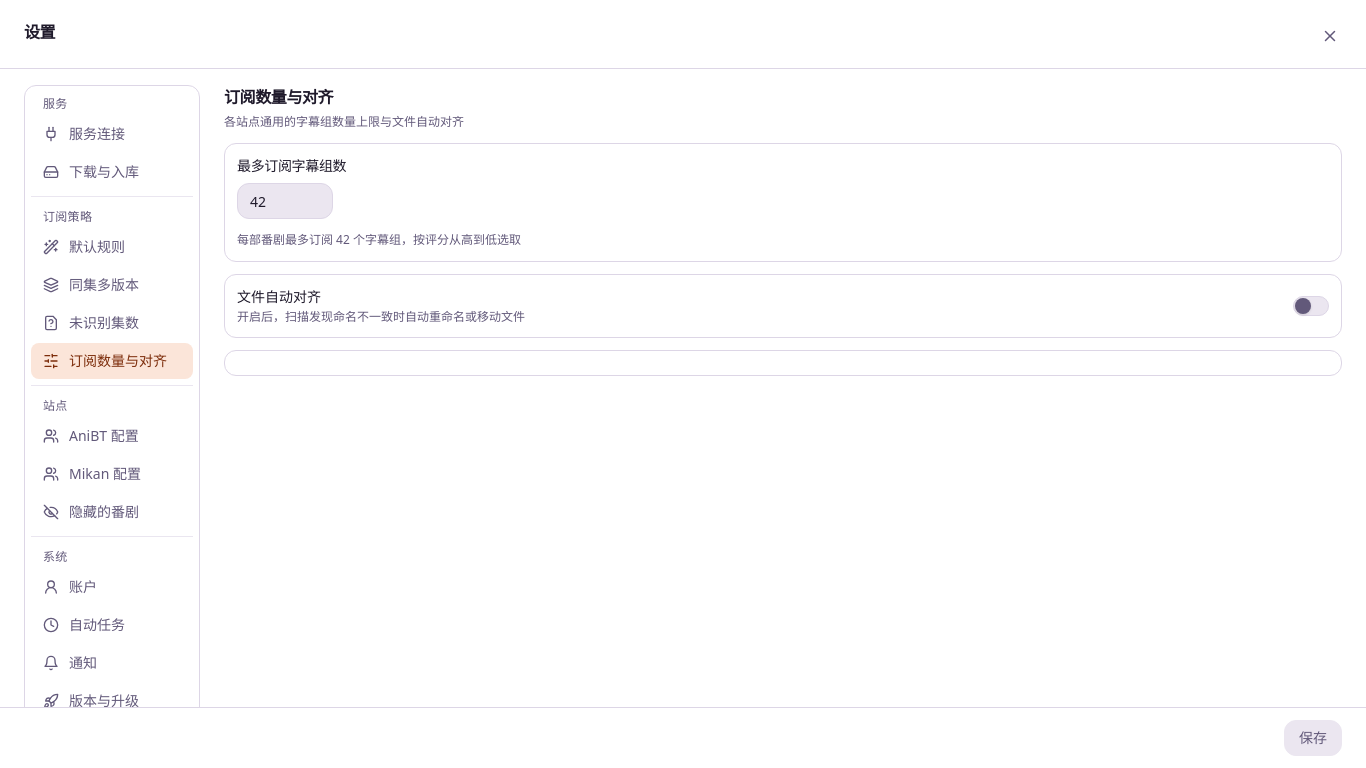
Test case: SettingsDialog 切分区 dirty 确认（批次 4） › 订阅策略 dirty 时切分区先弹确认，确认后离开
This screenshot has width=1366, height=768.
Step 1. Replace the text in the field named "最多订阅字幕组数（0–100）" with "50" → point(285, 201), box [237, 183, 333, 219]
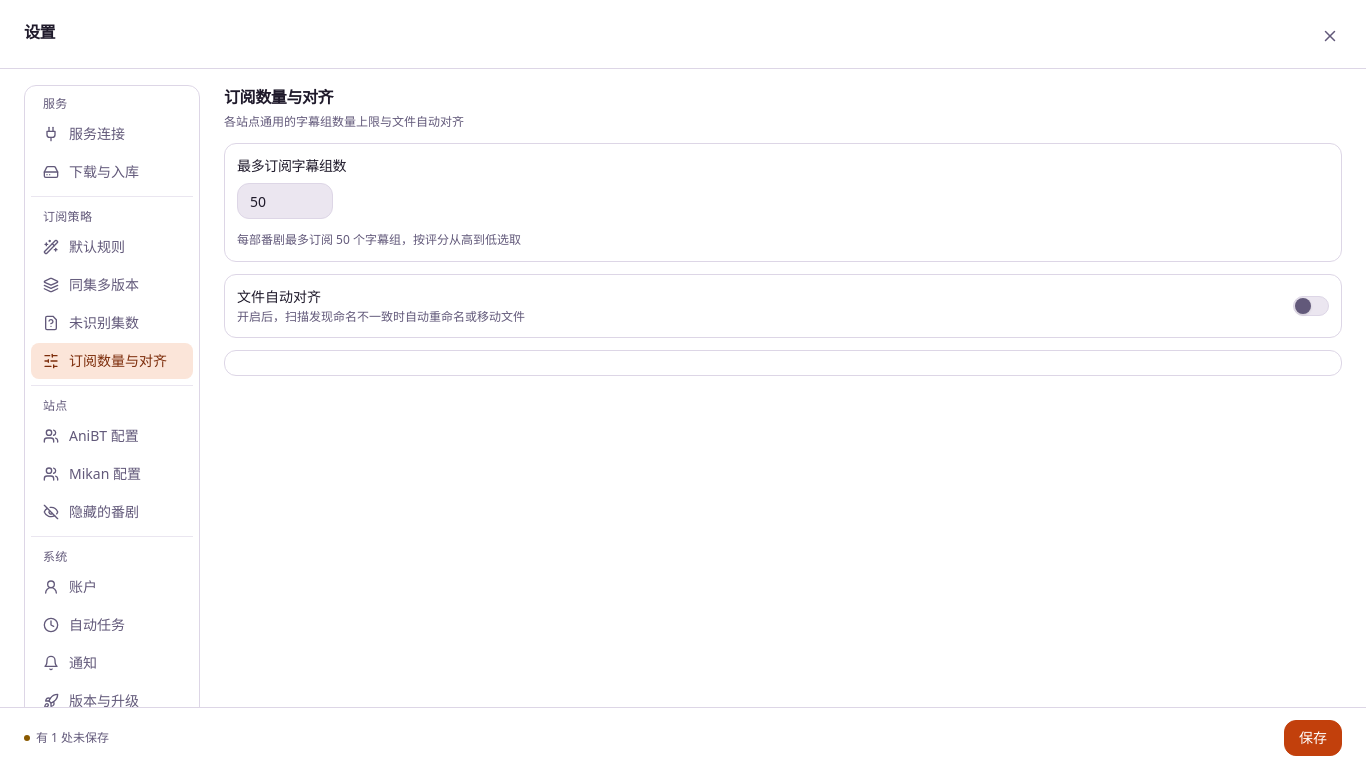
Step 2. Click the link "服务连接" → point(84, 134), box [43, 124, 125, 143]
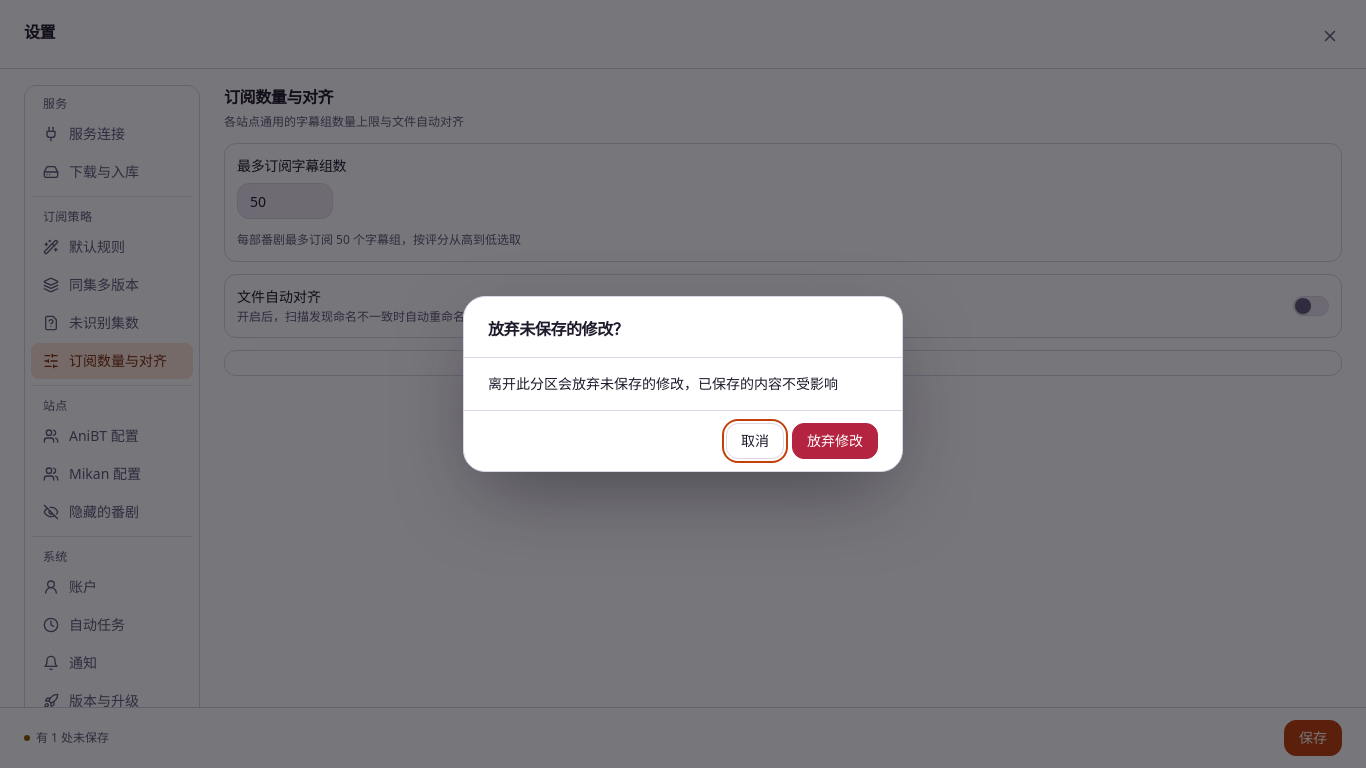
Check: the heading "放弃未保存的修改？" is shown, box [488, 318, 628, 340]
Step 3. Click the button "放弃修改" → point(835, 441), box [792, 423, 878, 459]
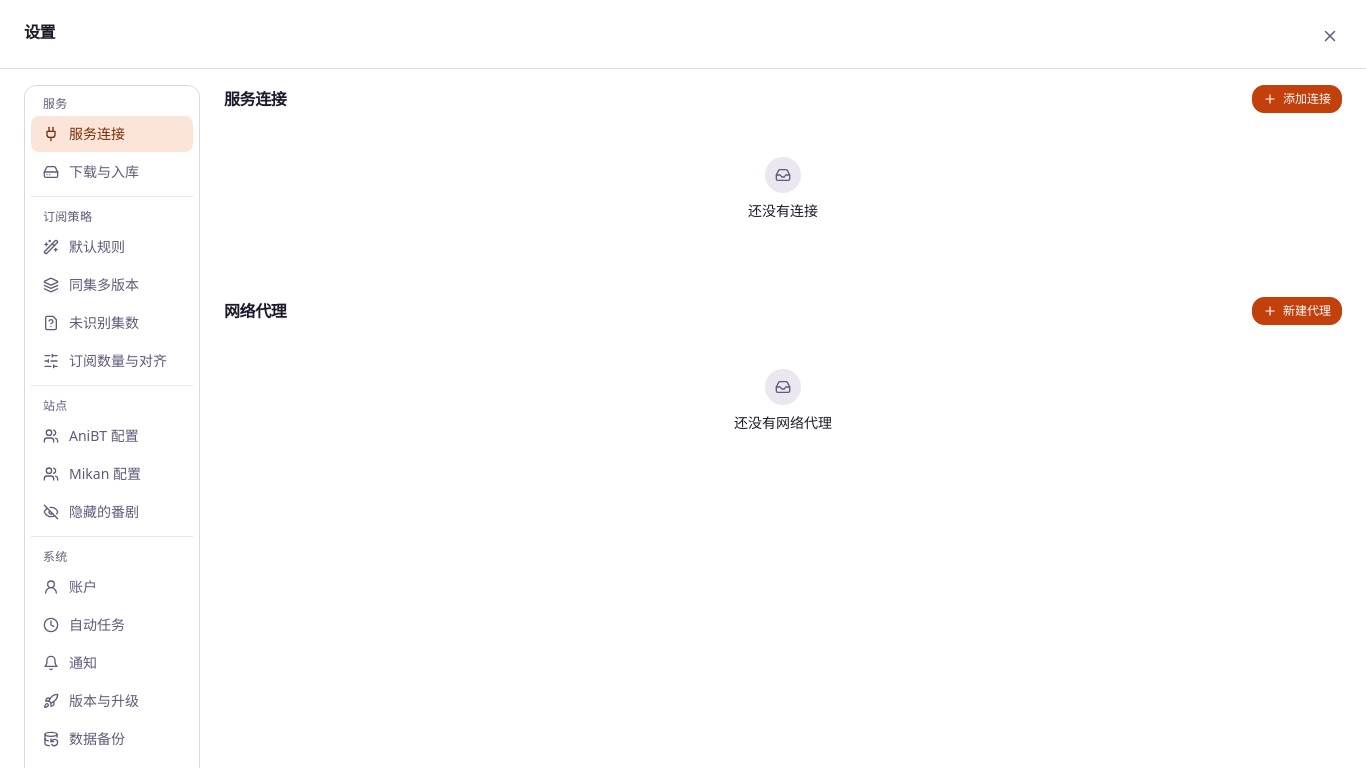
Check: the button "添加连接" is shown, box [1252, 85, 1342, 113]
